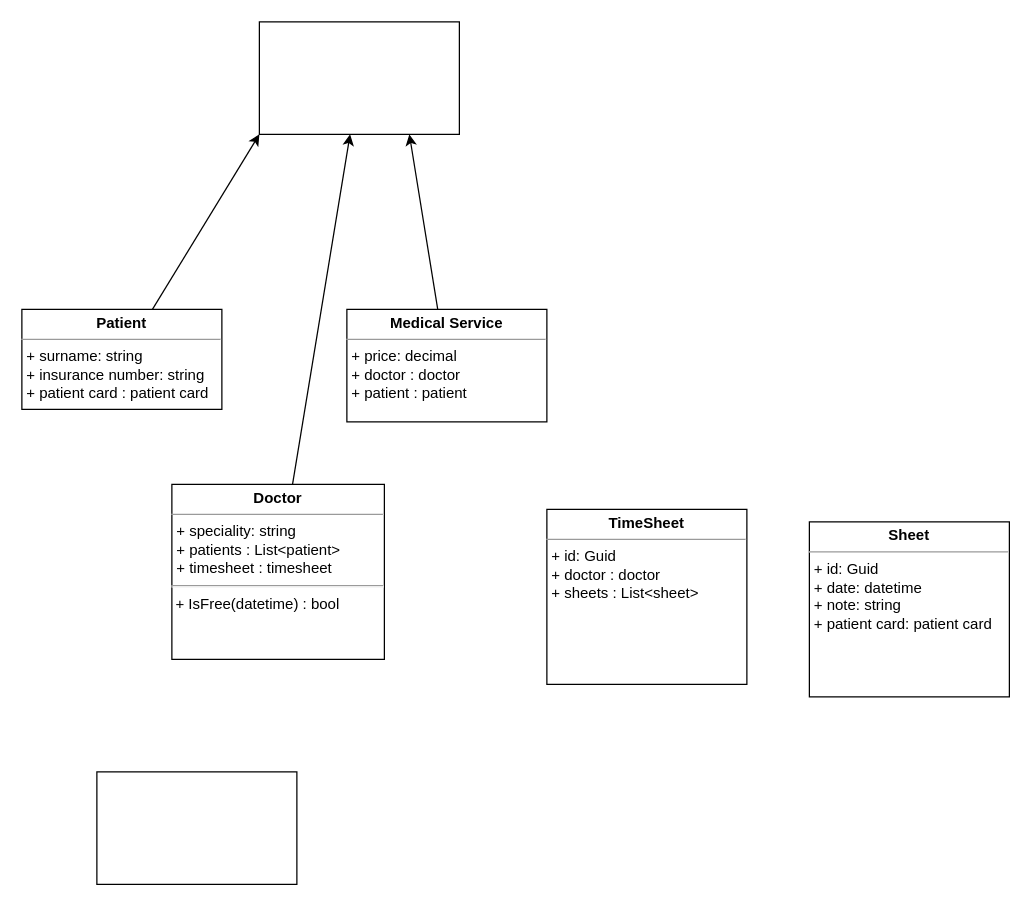
The diagram is 1031 pixels wide and 906 high, and some of its shapes have lost their labels. The shapes that lost their labels are listed below. From the top down, each one's centre as x and y in pixels, then its label:
point 358,77: Entity + id : TType + name : string
point 196,827: Class + field: Type + method(): Type
